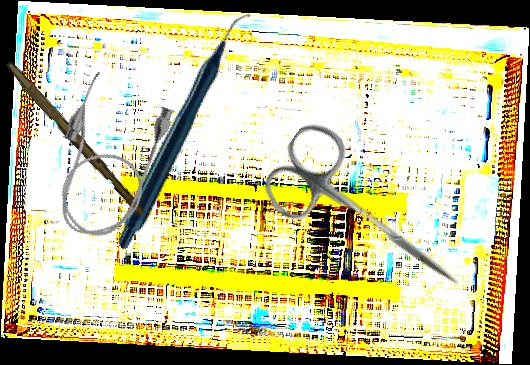Cannula: (35, 67, 180, 251)
Handpiece: (52, 12, 320, 251)
Iris Scissors: (253, 114, 489, 320)
Scalpel Handle: (0, 60, 150, 218)
